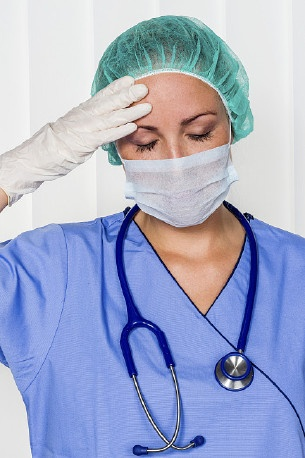Mask: (117, 100, 246, 229)
